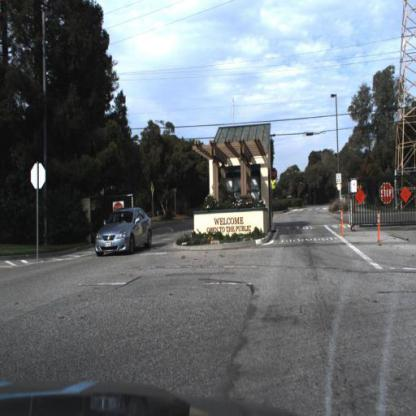car: (94, 202, 153, 257)
